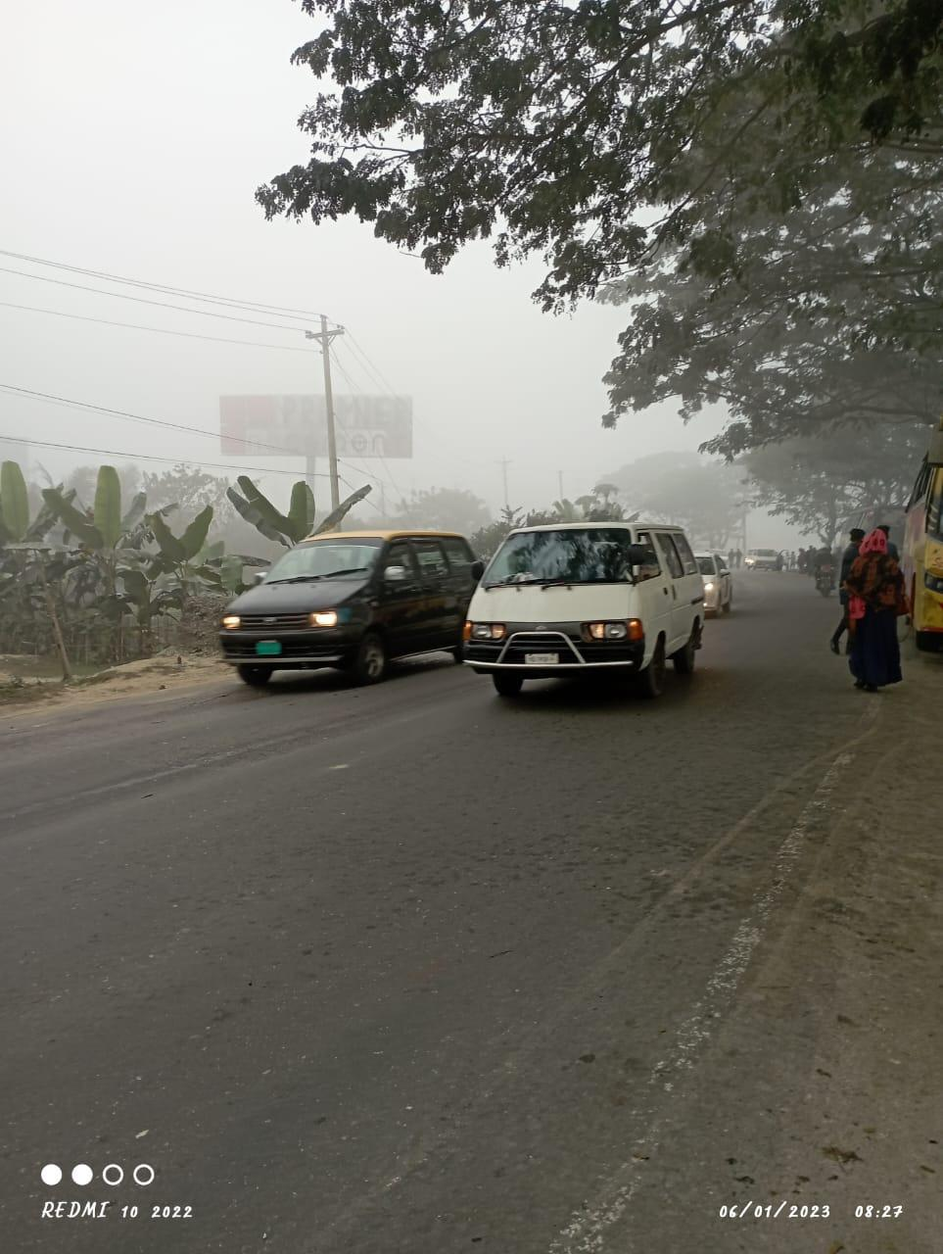Car: (212, 499, 476, 682), (455, 522, 706, 700)
